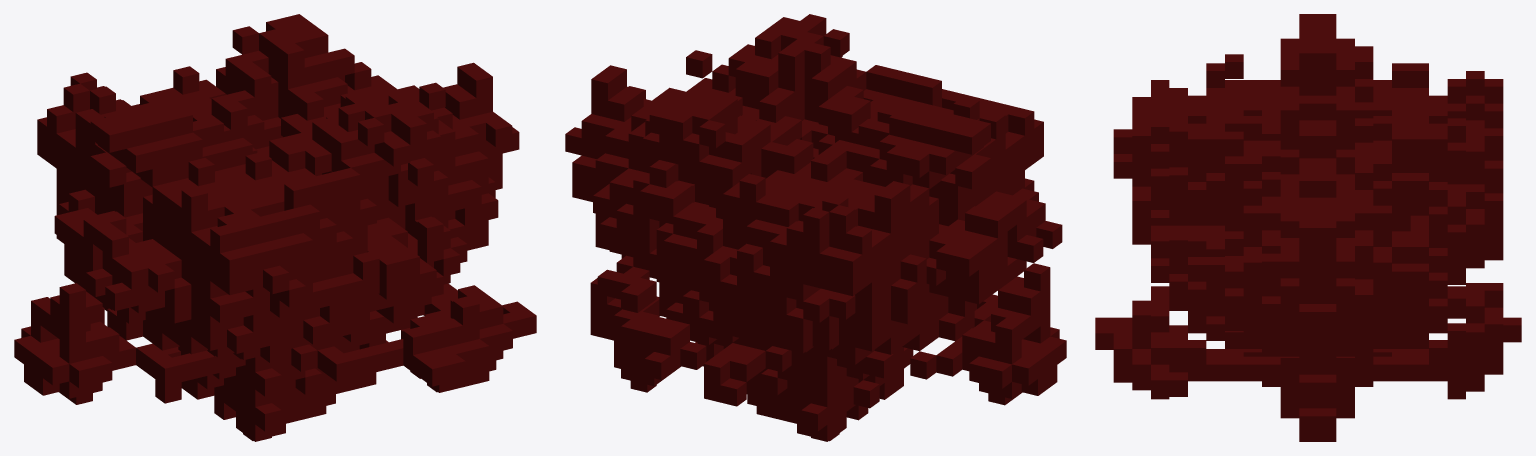
File: bad-2.obj
3 views of the same model, side by side, from view 1: azimuth 30°, elevation 25°; view 2: azimuth 150°, elevation 25°; view 3: azimuth 270°, elevation 25° (orthographic). The views are drawn at different scales.
Bounding box in the file's own units: 2.8 × 1.9 × 2.3.
Materials: 1 (1 with a texture image).
